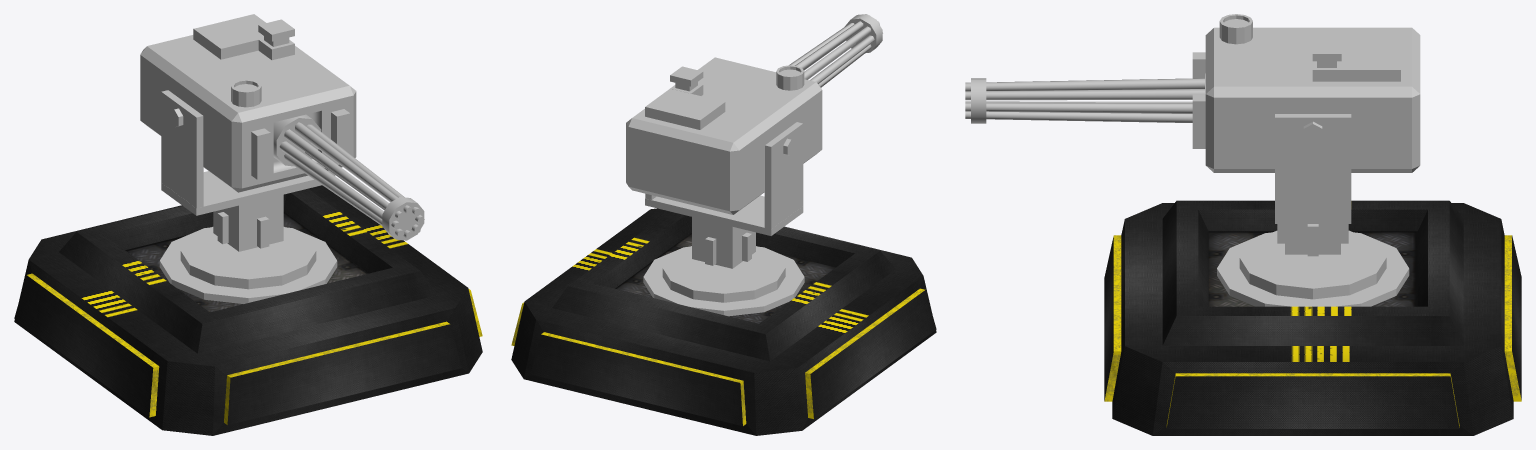
File: MiniGunTowerLv1.fbx
3 renders of one model, left to right at view 1: azimuth 30°, elevation 25°; view 2: azimuth 150°, elevation 25°; view 3: azimuth 270°, elevation 25°, orthographic. The views are drawn at different scales.
Parts seen in each view (by area): view 1: MiniGun_Lv_3:MiniGun_Lv_1:Base, MiniGun_Lv_3:MiniGun_Lv_1:Head, MiniGun_Lv_3:MiniGun_Lv_1:Base_Sub, MiniGun_Lv_3:MiniGun_Lv_1:Gun; view 2: MiniGun_Lv_3:MiniGun_Lv_1:Base, MiniGun_Lv_3:MiniGun_Lv_1:Head, MiniGun_Lv_3:MiniGun_Lv_1:Base_Sub, MiniGun_Lv_3:MiniGun_Lv_1:Gun; view 3: MiniGun_Lv_3:MiniGun_Lv_1:Base, MiniGun_Lv_3:MiniGun_Lv_1:Head, MiniGun_Lv_3:MiniGun_Lv_1:Base_Sub, MiniGun_Lv_3:MiniGun_Lv_1:Gun.
Boxes of the visible parts, left/top/right/bottom form: MiniGun_Lv_3:MiniGun_Lv_1:Base: left=14, top=185, right=482, bottom=435; MiniGun_Lv_3:MiniGun_Lv_1:Head: left=140, top=14, right=356, bottom=192; MiniGun_Lv_3:MiniGun_Lv_1:Base_Sub: left=159, top=90, right=337, bottom=303; MiniGun_Lv_3:MiniGun_Lv_1:Gun: left=273, top=114, right=424, bottom=240; MiniGun_Lv_3:MiniGun_Lv_1:Base: left=511, top=208, right=936, bottom=435; MiniGun_Lv_3:MiniGun_Lv_1:Head: left=626, top=57, right=822, bottom=214; MiniGun_Lv_3:MiniGun_Lv_1:Base_Sub: left=643, top=122, right=804, bottom=316; MiniGun_Lv_3:MiniGun_Lv_1:Gun: left=789, top=14, right=882, bottom=87; MiniGun_Lv_3:MiniGun_Lv_1:Base: left=1104, top=200, right=1521, bottom=435; MiniGun_Lv_3:MiniGun_Lv_1:Head: left=1192, top=14, right=1420, bottom=172; MiniGun_Lv_3:MiniGun_Lv_1:Base_Sub: left=1217, top=114, right=1409, bottom=306; MiniGun_Lv_3:MiniGun_Lv_1:Gun: left=965, top=72, right=1205, bottom=123.
Bounding box in the file's own units: 24.94 × 21.21 × 33.26.
